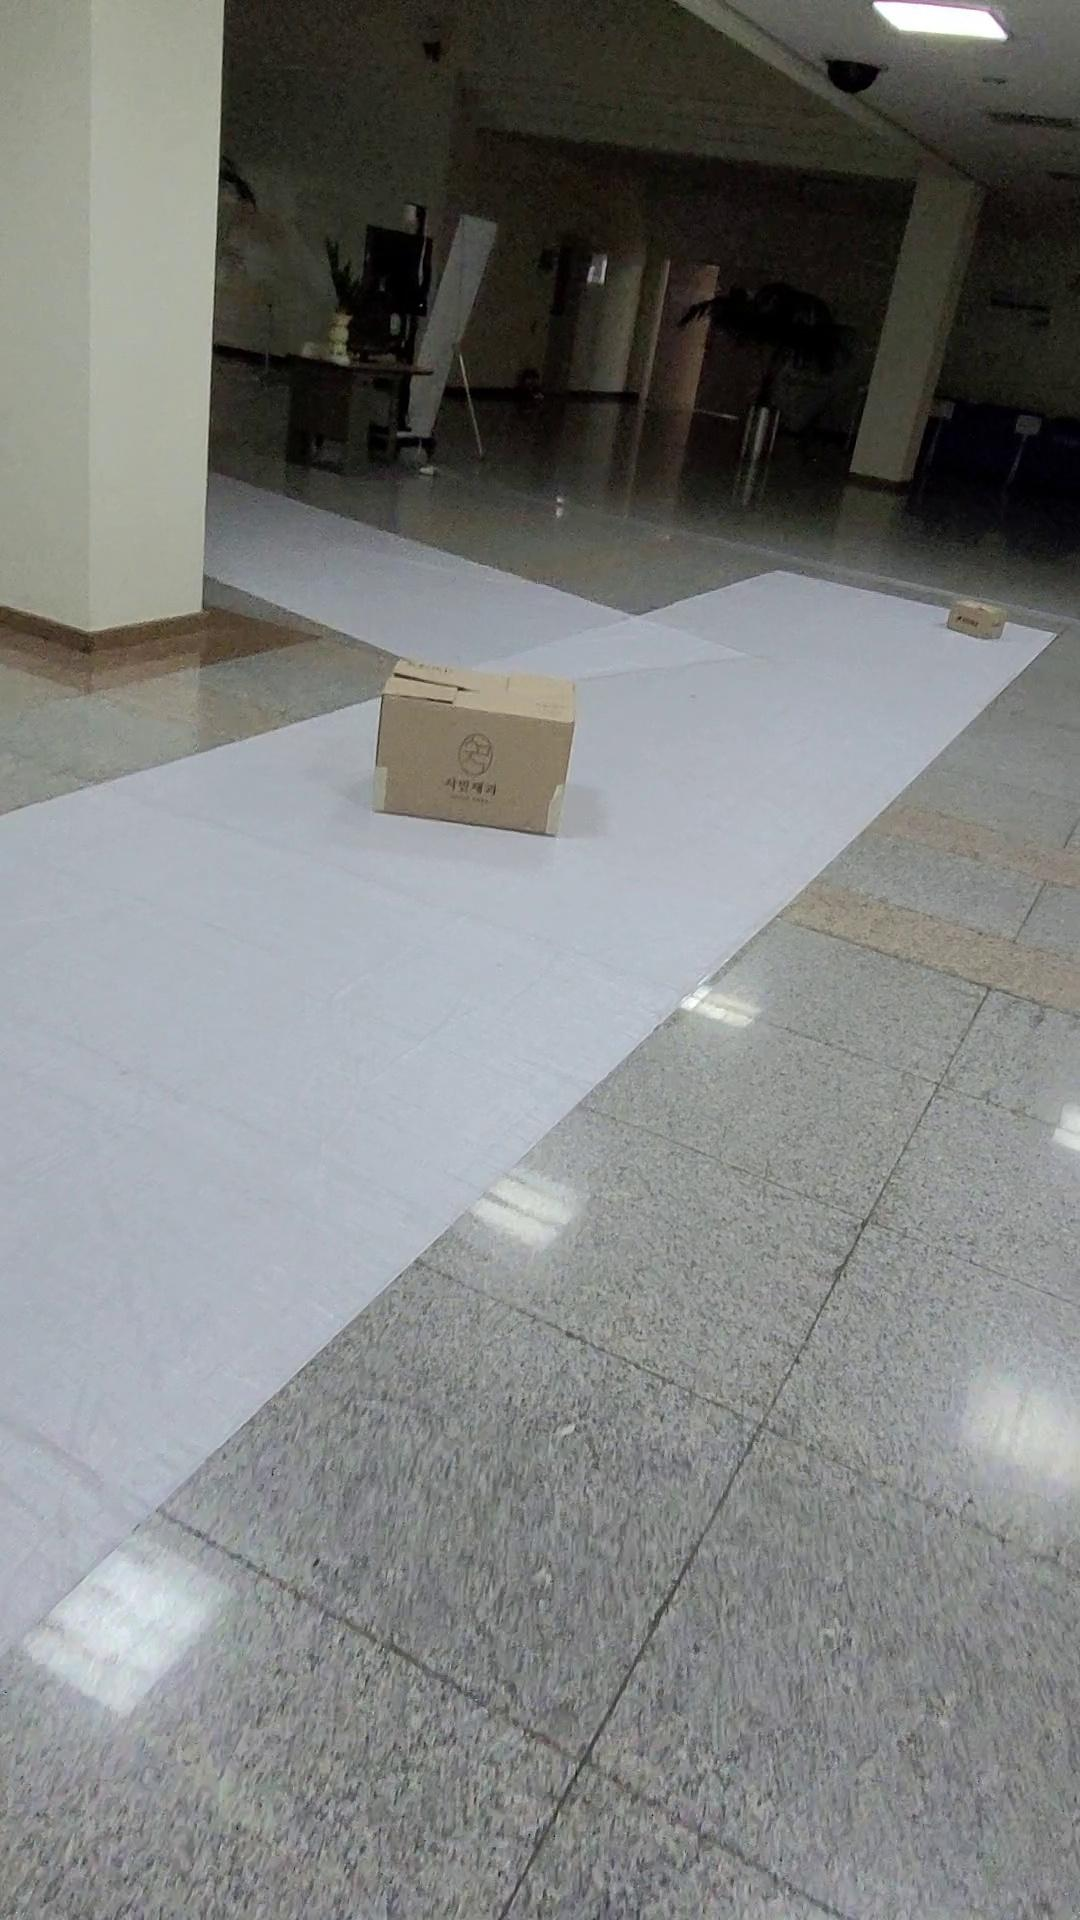Box: (331, 647, 611, 862), (903, 574, 1022, 673)
